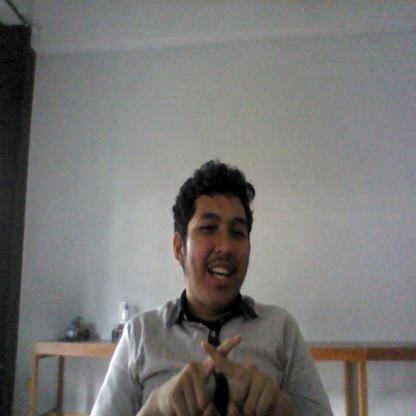X: (160, 333, 281, 416)
